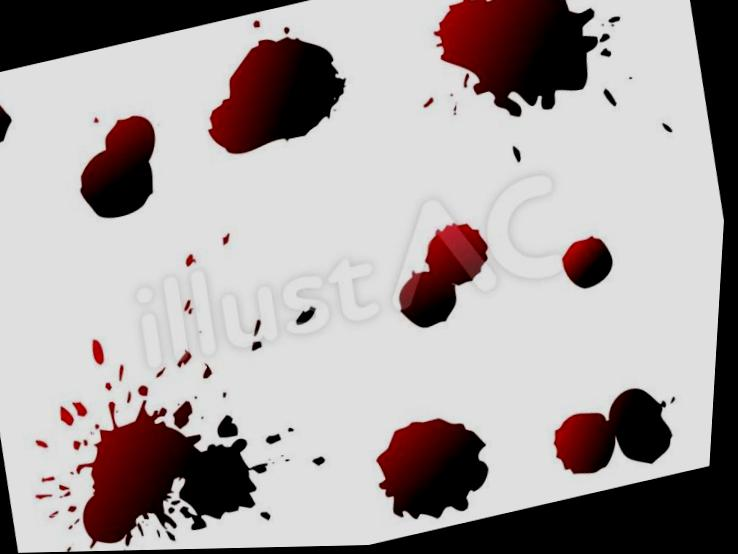Fire: (80, 399, 273, 548), (433, 0, 598, 119), (209, 37, 347, 154), (380, 420, 494, 521), (558, 391, 677, 476), (402, 224, 491, 329), (82, 115, 157, 218), (564, 238, 615, 290), (0, 104, 12, 142)
